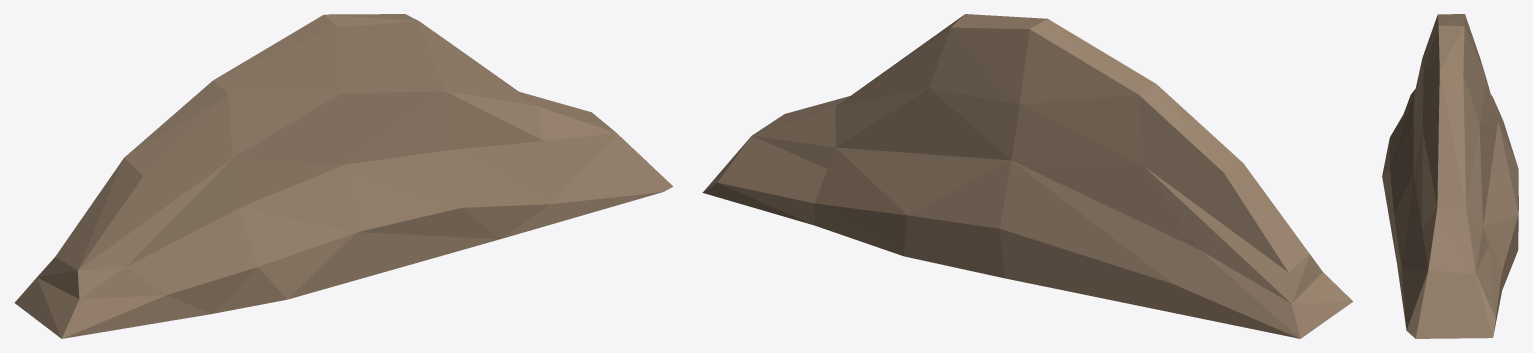
Rendered from rock6.fbx.
3 views of the same model, side by side, from view 1: azimuth 30°, elevation 25°; view 2: azimuth 150°, elevation 25°; view 3: azimuth 270°, elevation 25° (orthographic). The views are drawn at different scales.
Visible parts, largest first — view 1: Rock6; view 2: Rock6; view 3: Rock6.
Boxes of the visible parts, bbox=[...] form: Rock6: bbox=[14, 14, 673, 338]; Rock6: bbox=[702, 14, 1353, 338]; Rock6: bbox=[1382, 14, 1518, 338].
Bounding box in the file's own units: 6.03 × 2.17 × 1.43.
